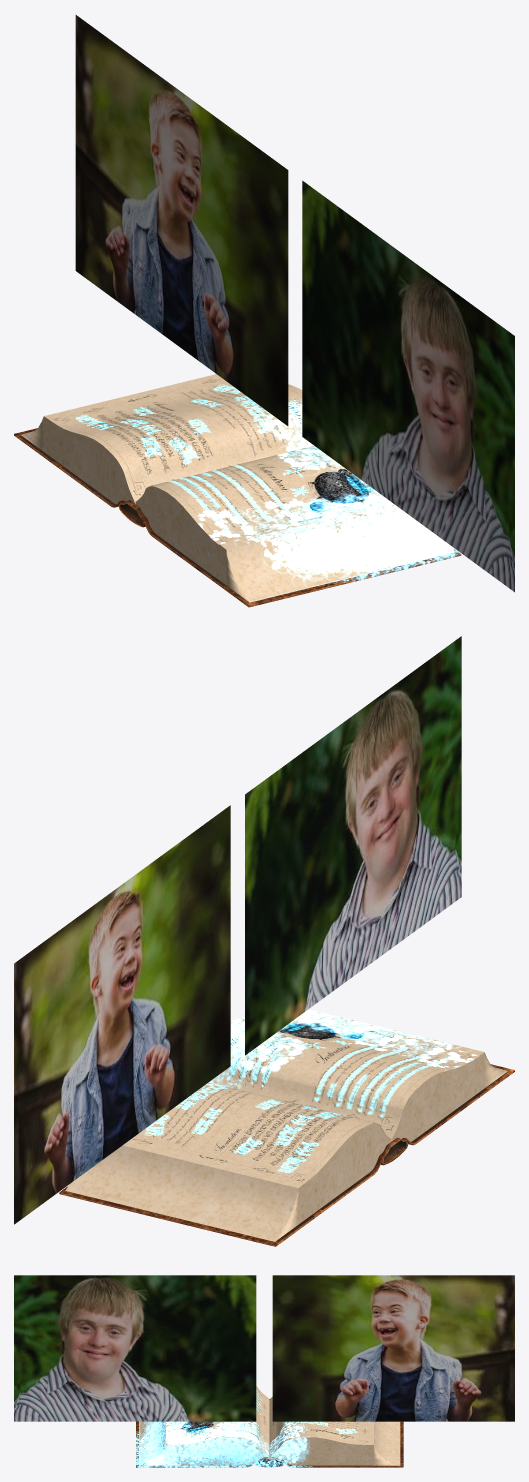
File: down syndrome.glb
3 renders of one model, top to bottom at view 1: azimuth 30°, elevation 25°; view 2: azimuth 150°, elevation 25°; view 3: azimuth 270°, elevation 25°, orthographic. The views are drawn at different scales.
Visible parts, largest first — view 1: down_syndrome_content_kid, down_syndrome_content_adult, polySurface139; view 2: down_syndrome_content_kid, down_syndrome_content_adult, polySurface139; view 3: down_syndrome_content_kid, down_syndrome_content_adult, polySurface139.
Part boxes in pixels (left/top/right/bottom): down_syndrome_content_kid: left=75, top=15, right=288, bottom=425; down_syndrome_content_adult: left=302, top=180, right=514, bottom=592; polySurface139: left=14, top=374, right=461, bottom=607; down_syndrome_content_kid: left=14, top=805, right=230, bottom=1224; down_syndrome_content_adult: left=245, top=636, right=461, bottom=1055; polySurface139: left=59, top=1009, right=514, bottom=1246; down_syndrome_content_kid: left=272, top=1275, right=514, bottom=1421; down_syndrome_content_adult: left=14, top=1275, right=256, bottom=1421; polySurface139: left=136, top=1386, right=403, bottom=1467.
Bounding box in the file's own units: 1.6 × 2.24 × 5.73.
6 materials, 6 textured.
